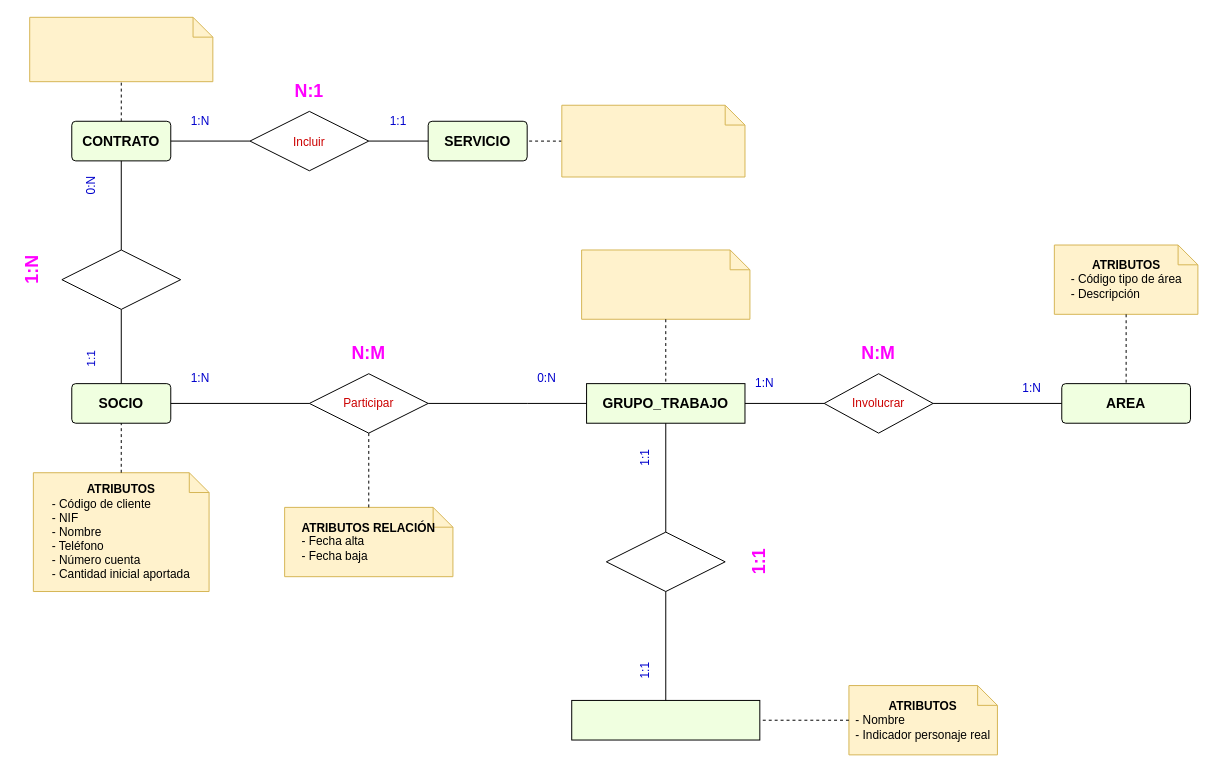
Image size: 1215x772. Some labels were removed from this diagram. Each missing label, with the box of its shape:
Asociar: (605, 531, 725, 592)
ATRIBUTOS - Código de grupo de trabajo - Descripción corta - Descripción larga: (581, 249, 750, 319)
ATRIBUTOS - Código de servicio - Descripción - Precio del servicio: (561, 104, 745, 177)
ATRIBUTOS - Indicador cobra cada mes: (29, 16, 213, 82)
PERSONAJE_INSPIRADOR: (571, 699, 760, 740)
Tener: (61, 249, 181, 309)
